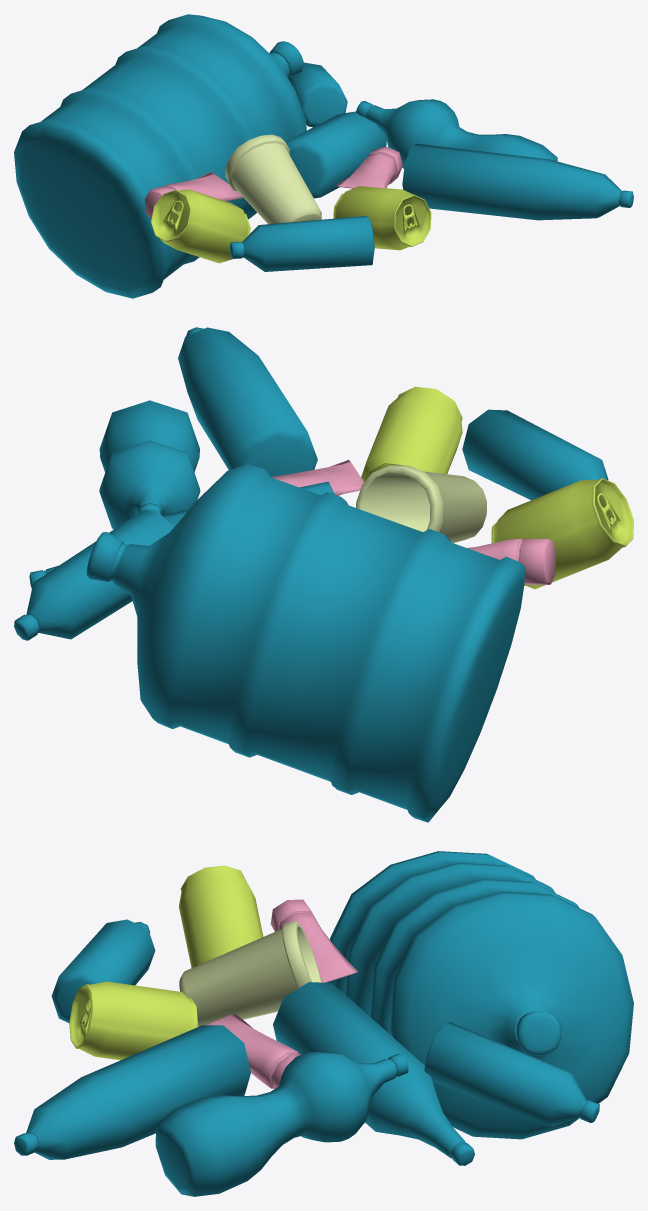
File: Amas_Plastique.fbx
3 renders of one model, top to bottom at view 1: azimuth 30°, elevation 25°; view 2: azimuth 150°, elevation 25°; view 3: azimuth 270°, elevation 25°, orthographic. The views are drawn at different scales.
Visible parts, largest first — view 1: Bouteille5, Bouteille4, Bouteille3, Gobelet, Bouteille2, Canette_002, Bouteille1, Canette_1, Bouteille006, Creme, Creme001; view 2: Bouteille5, Bouteille4, Bouteille2, Canette_002, Bouteille3, Bouteille006, Gobelet, Canette_1, Creme001, Creme, Bouteille1; view 3: Bouteille5, Bouteille2, Bouteille4, Bouteille1, Bouteille006, Gobelet, Canette_1, Canette_002, Bouteille3, Creme001, Creme.
Boxes of the visible parts, x1,y1,x2,y2 form: Bouteille5: (14, 14, 306, 298); Bouteille4: (402, 144, 633, 220); Bouteille3: (229, 216, 374, 271); Gobelet: (225, 134, 321, 224); Bouteille2: (356, 99, 557, 168); Canette_002: (151, 189, 250, 263); Bouteille1: (285, 111, 386, 198); Canette_1: (333, 186, 431, 250); Bouteille006: (288, 62, 347, 127); Creme: (334, 147, 402, 188); Creme001: (144, 172, 243, 218); Bouteille5: (86, 464, 525, 822); Bouteille4: (178, 327, 317, 476); Bouteille2: (99, 400, 200, 529); Canette_002: (491, 478, 633, 589); Bouteille3: (462, 409, 608, 500); Bouteille006: (14, 509, 173, 640); Gobelet: (356, 465, 486, 543); Canette_1: (361, 386, 462, 482); Creme001: (467, 538, 555, 584); Creme: (271, 460, 363, 495); Bouteille1: (29, 481, 334, 589); Bouteille5: (327, 851, 633, 1139); Bouteille2: (155, 1051, 408, 1196); Bouteille4: (14, 1025, 250, 1159); Bouteille1: (273, 982, 474, 1165); Bouteille006: (424, 1022, 599, 1126); Gobelet: (179, 921, 321, 1026); Canette_1: (69, 981, 197, 1060); Canette_002: (179, 865, 263, 967); Bouteille3: (51, 919, 155, 1022); Creme001: (270, 899, 357, 982); Creme: (206, 1013, 301, 1089).
Size of the model in its own units: 44.98 by 23.5 by 46.84.
